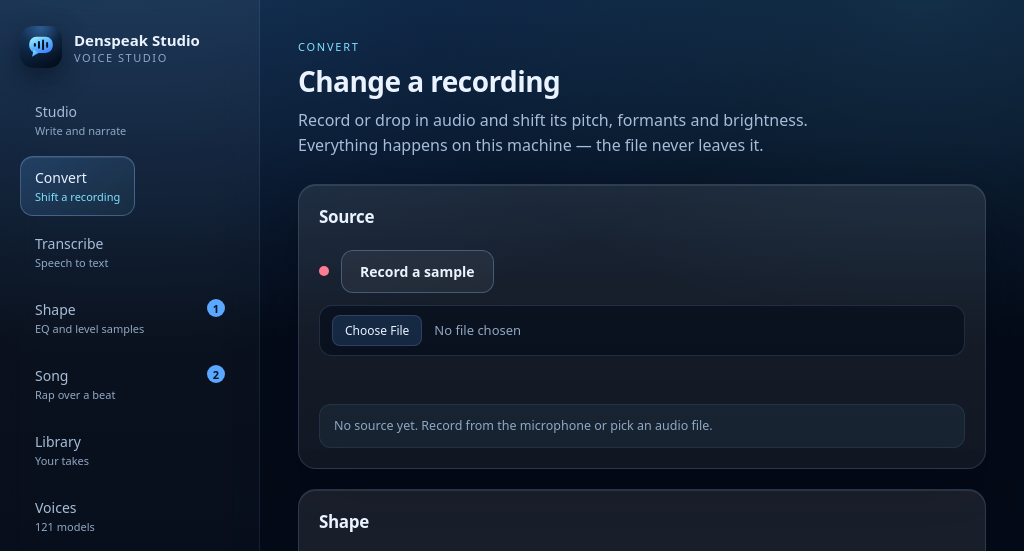
Test: hand-off navigation › leaves the on-screen section’s count to its notice and keeps the others
Expected: the button named "2 takes waiting for Song" is shown, x1=207 y1=365 x2=225 y2=383
Expected: the button named "1 take waiting for Shape" is shown, x1=207 y1=299 x2=225 y2=317
Click the button "Song Rap over a beat" at point(75, 384), box x1=20 y1=354 x2=130 y2=414
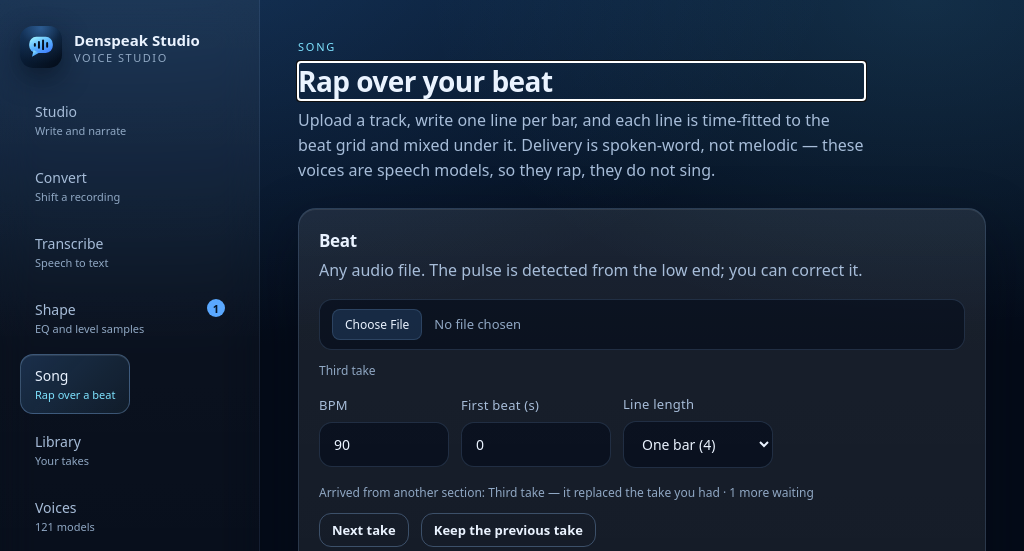
Expected: the button "waiting for Song" is not shown
Result: the heading "Rap over your beat" is shown at x1=298 y1=62 x2=553 y2=100
Result: the text "1 more waiting" is shown at x1=545 y1=484 x2=814 y2=501
# Taking the last queued take empties the notice's count as well.
Click the button "Next take" at point(364, 530), box x1=319 y1=513 x2=409 y2=547
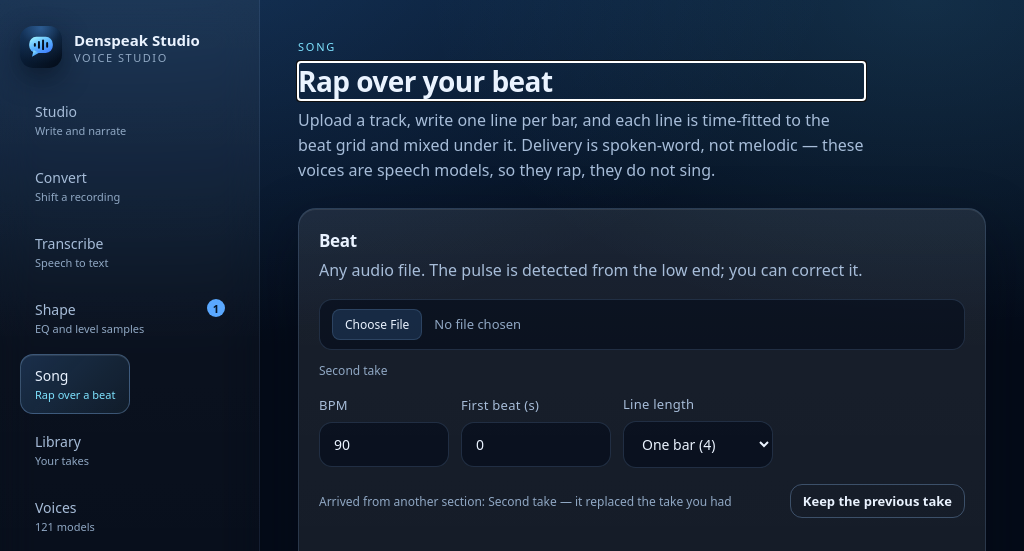
Expected: the button "waiting for Song" is not shown
Result: the text "Arrived from another section: Second take" is shown at x1=319 y1=493 x2=732 y2=510
Result: the text "more waiting" is gone
